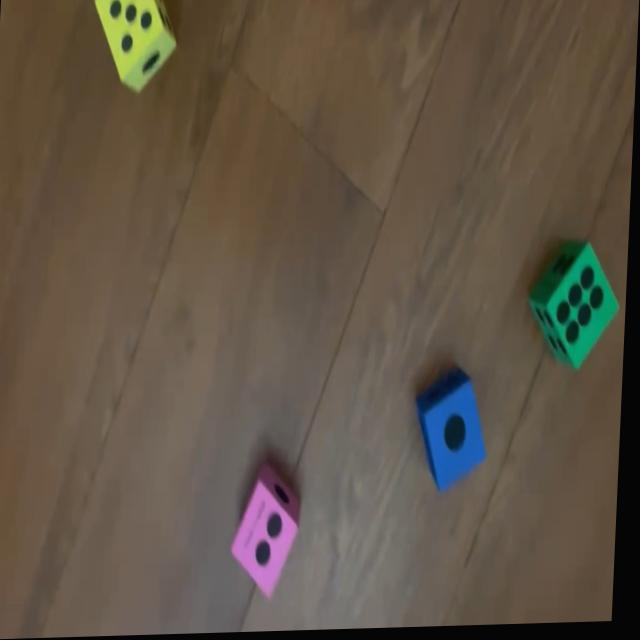blue_block: (416, 372, 494, 495)
